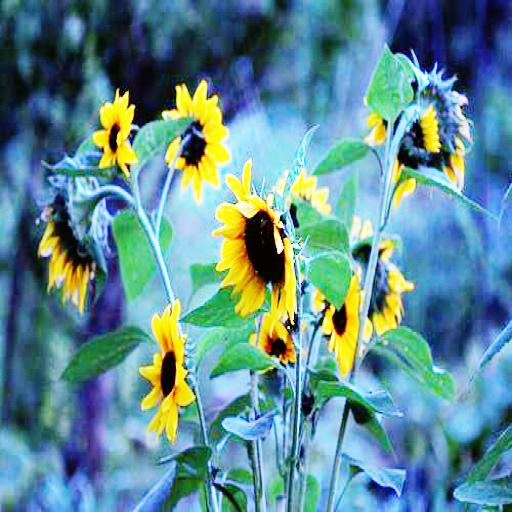sunflower: (214, 155, 303, 334), (141, 296, 196, 436), (305, 242, 363, 374), (162, 82, 229, 194), (32, 186, 92, 303), (96, 89, 138, 171)
